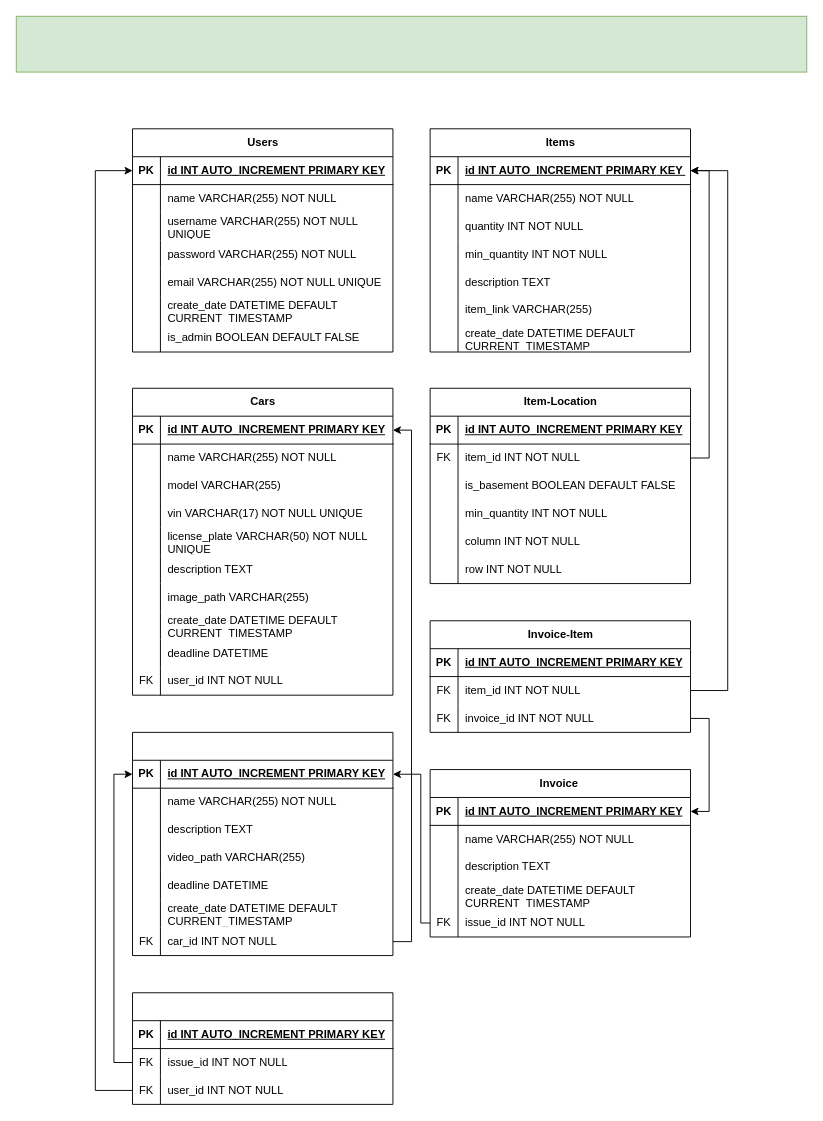
The diagram is 823 pixels wide and 1121 high, and some of its shapes have lost their labels. The shapes that lost their labels are listed below. From the top down, each one's box as (x1, y1, x2, y2) in pixels, then its label:
(15, 15, 807, 72): CREATE DATABASE AutoMechanicsDB; USE AutoMechanicsDB;
(132, 731, 393, 956): Issues
(132, 992, 393, 1104): User-Issue
